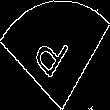P_SW: (33, 24, 77, 86)
